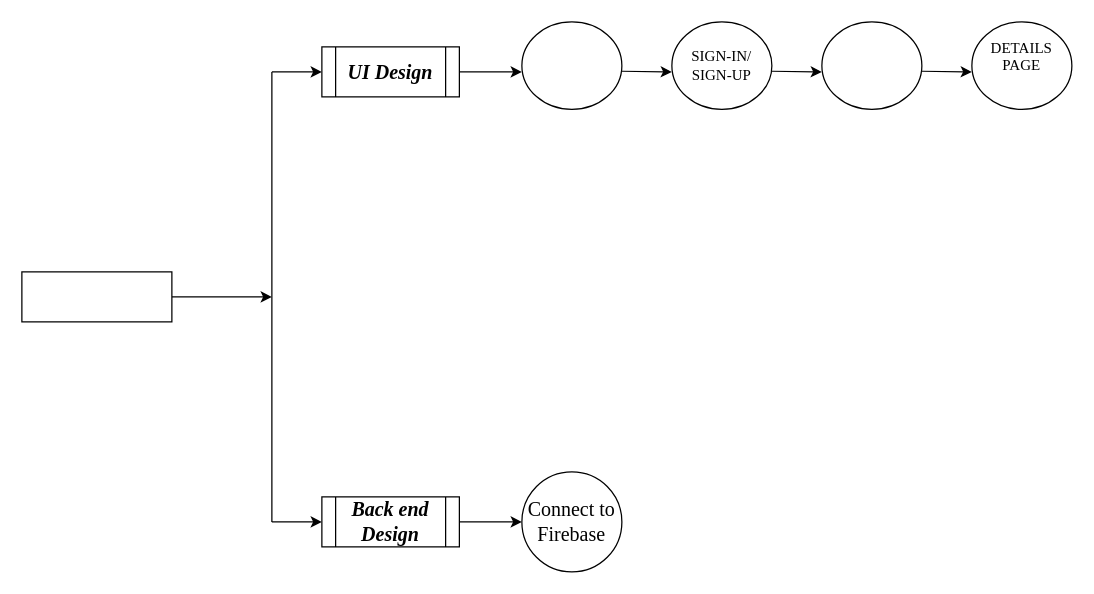
Image size: 1094x594. Some labels were removed from this diagram. Each missing label, with the centre of its shape:
"FLASH SCREEN" belongs at [571,65].
"HOMEPAGE" belongs at [871,65].
"Plant app" belongs at [96,296].
